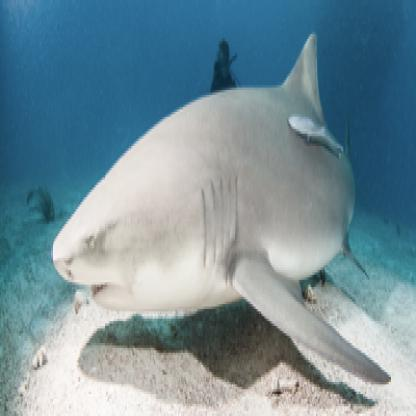shark: (54, 25, 389, 393)
